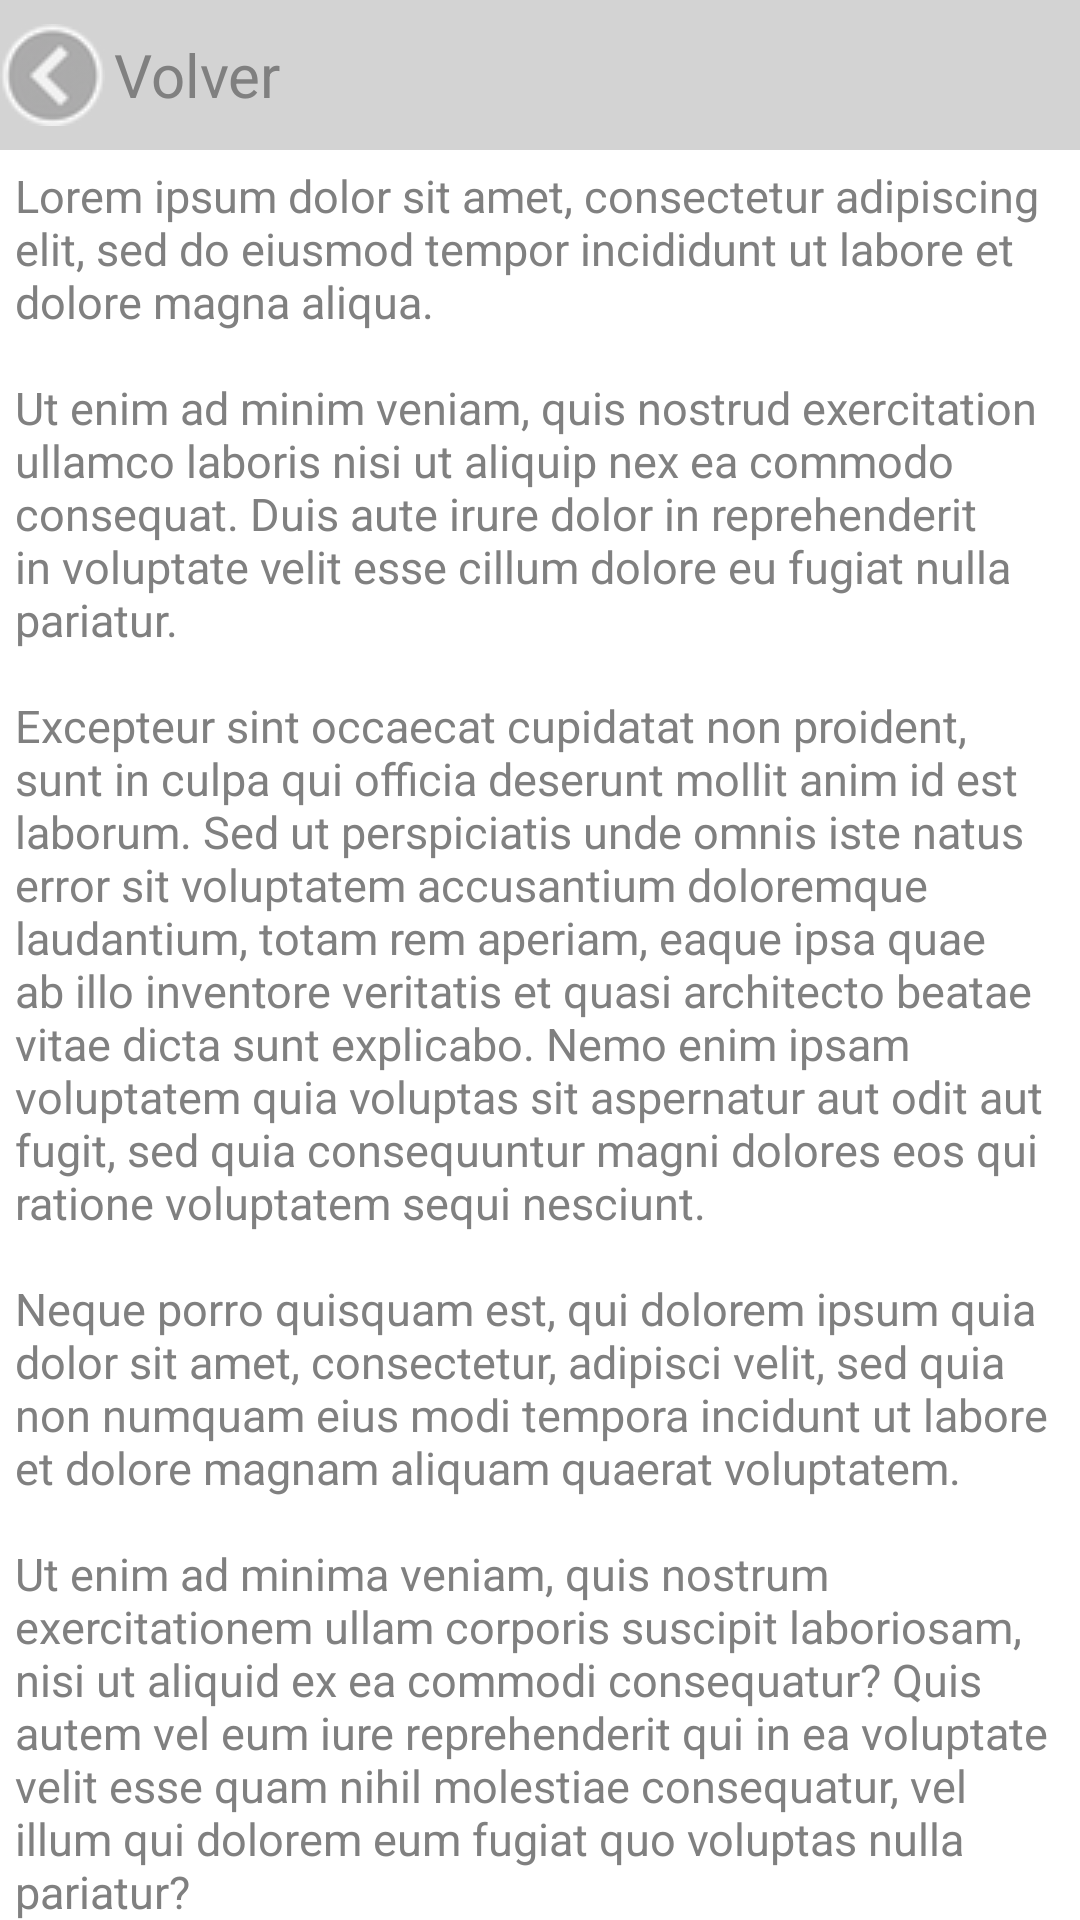

Icons on this 1080 × 1920 Android screen, each with the point to tap as (x=x, y=y):
flech: (x=52, y=76)
